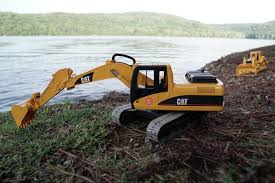excavator: (10, 53, 226, 143)
